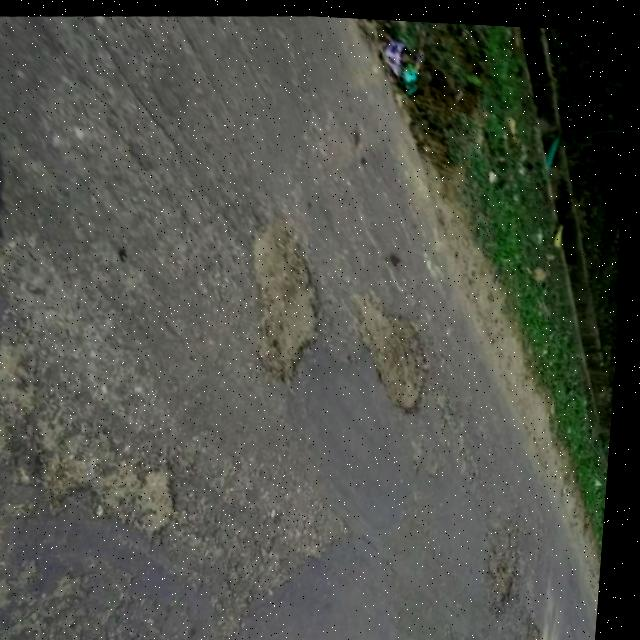Pothole: (241, 217, 339, 384), (351, 290, 441, 420), (131, 462, 194, 543), (486, 522, 535, 609), (525, 609, 558, 640)
